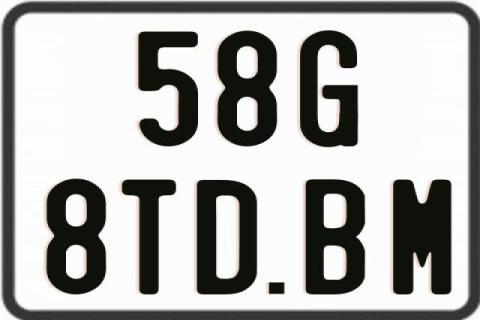0: (216, 28, 280, 148), (137, 30, 197, 146), (45, 176, 105, 292)
B: (306, 178, 367, 296)
D: (195, 179, 255, 296)
G: (299, 29, 357, 147)
M: (391, 179, 452, 296)
T: (119, 179, 175, 299)
